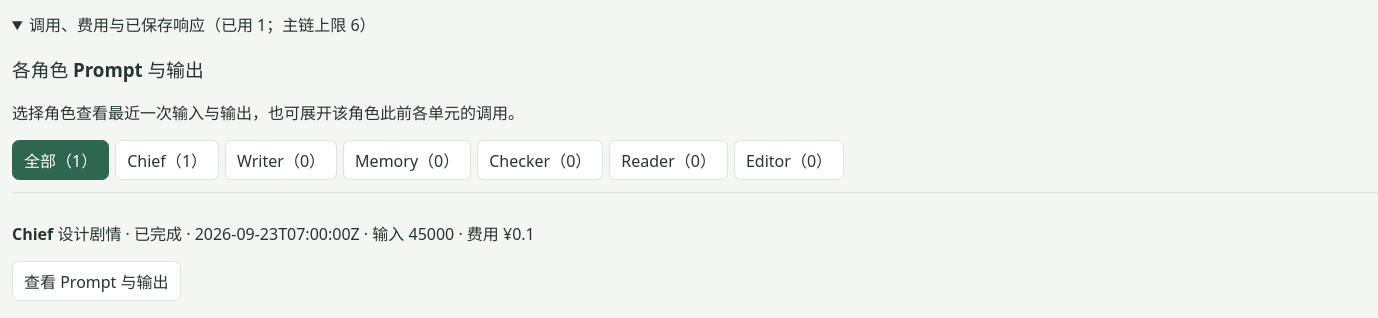
Test: original agent call records › shows uncalled roles without fabricating prompts or loading any receipt
The image size is (1378, 318).
Click the button "Reader（0）". click: (669, 160)
box: x1=609 y1=140 x2=728 y2=180
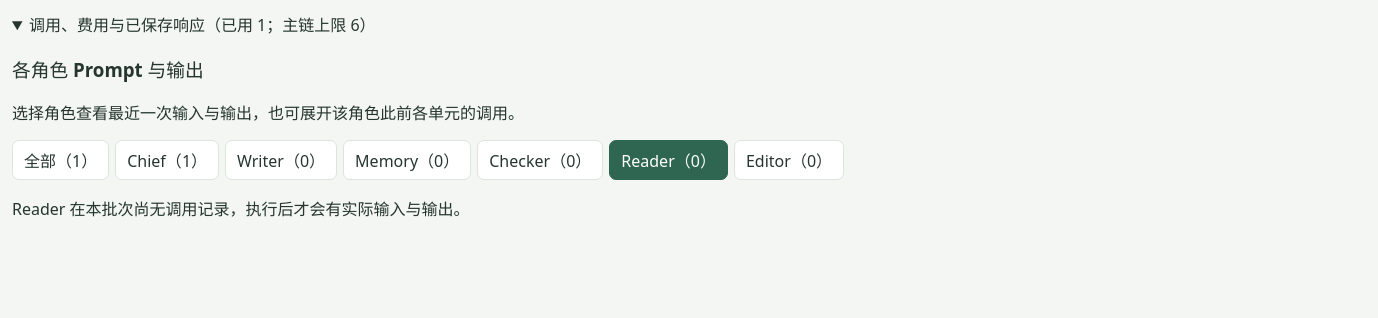
Result: the text "Reader 在本批次尚无调用记录，执行后才会有实际输入与输出。" is shown at x1=12 y1=198 x2=470 y2=220
